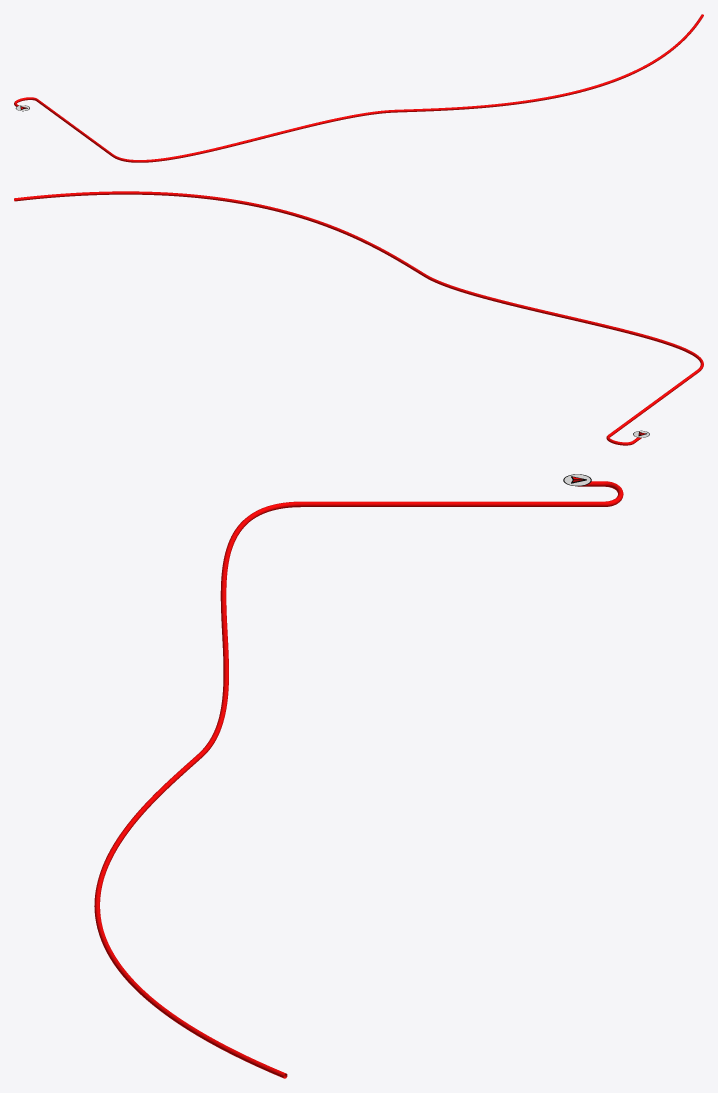
The model's file is route_79b4ce83-b8f9-4a67-9ab1-b0f6ebd4795f_de_single.glb.
3 views of the same model, one above another, from view 1: azimuth 30°, elevation 25°; view 2: azimuth 150°, elevation 25°; view 3: azimuth 270°, elevation 25° (orthographic). The views are drawn at different scales.
Visible parts, largest first — view 1: Personalabteilung; view 2: Personalabteilung; view 3: Personalabteilung.
Part boxes in pixels (x1,y1,x2,y2): Personalabteilung: (14,14,703,162); Personalabteilung: (14,191,703,445); Personalabteilung: (94,481,623,1078).
Bounding box in the file's own units: 20.29 × 0.109 × 7.57.
